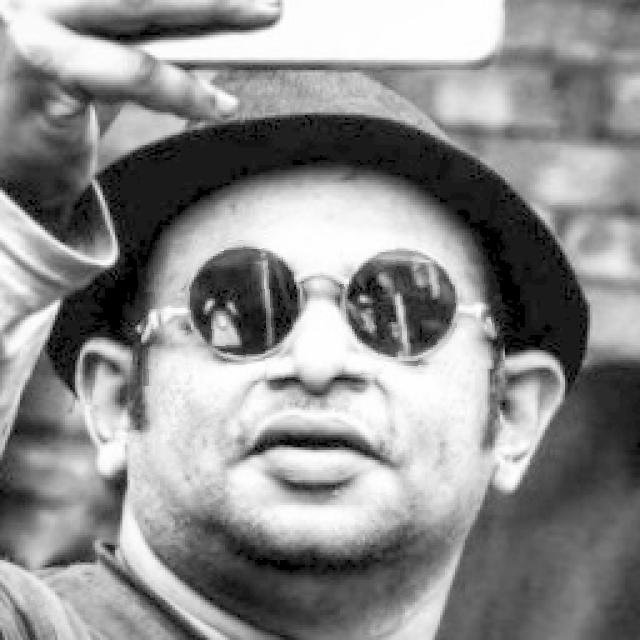glasses: (137, 232, 504, 382)
